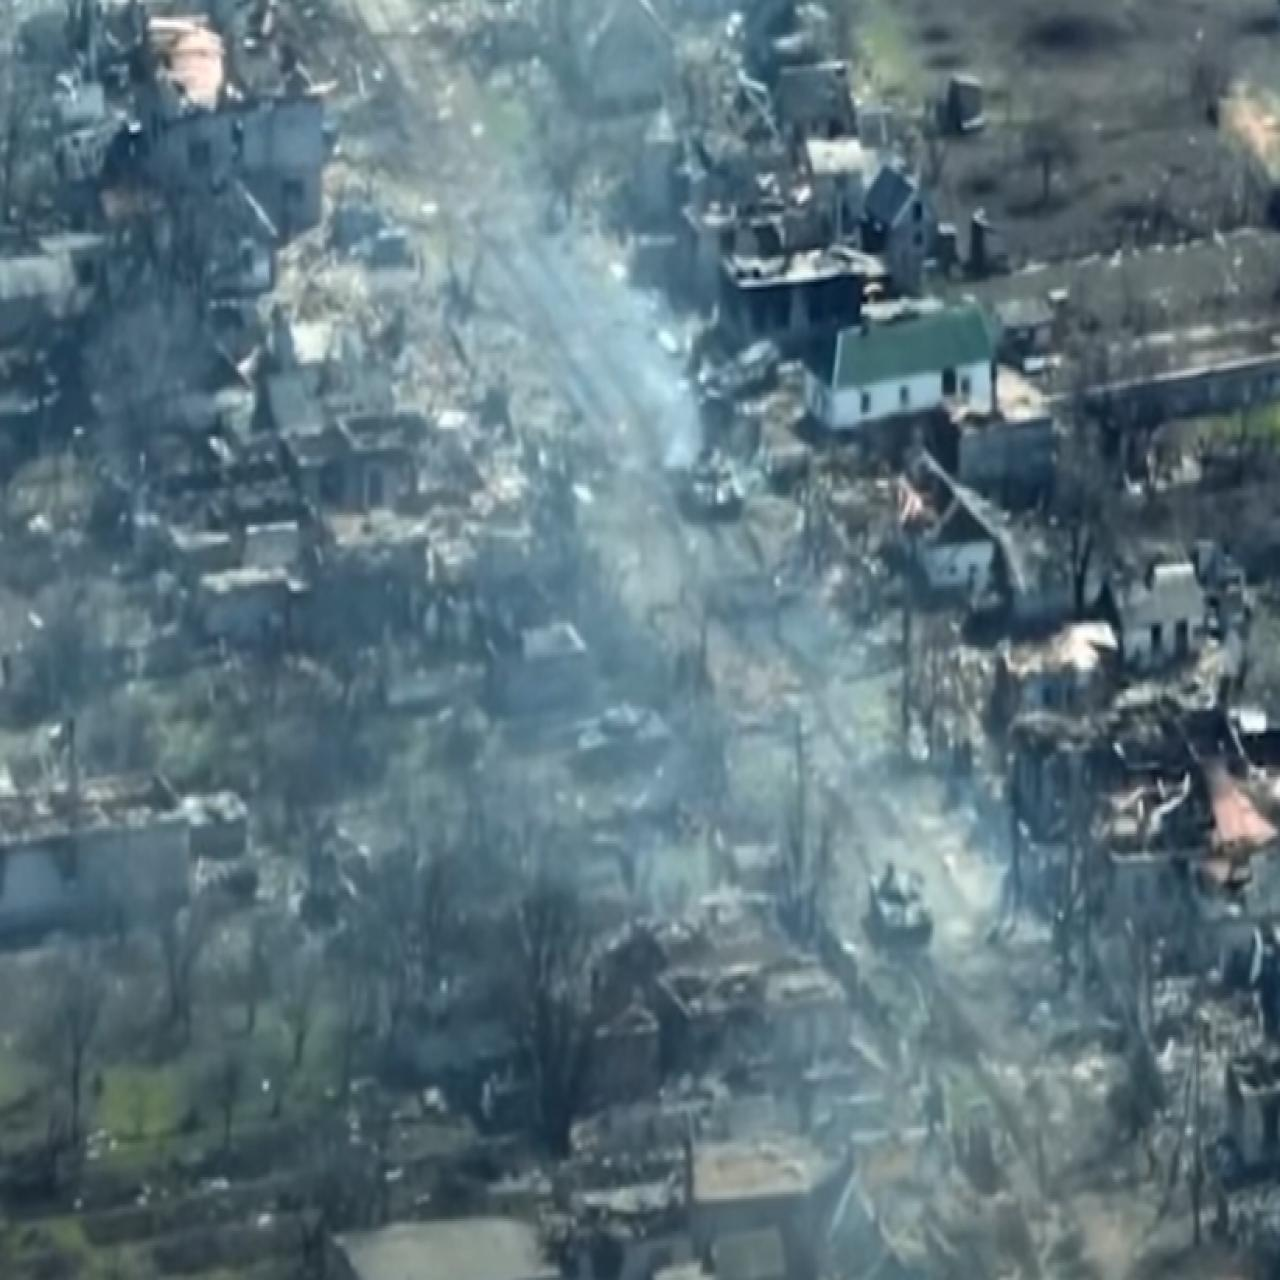MIL_Veh: (549, 695, 678, 772), (852, 855, 935, 947), (660, 443, 747, 524)
